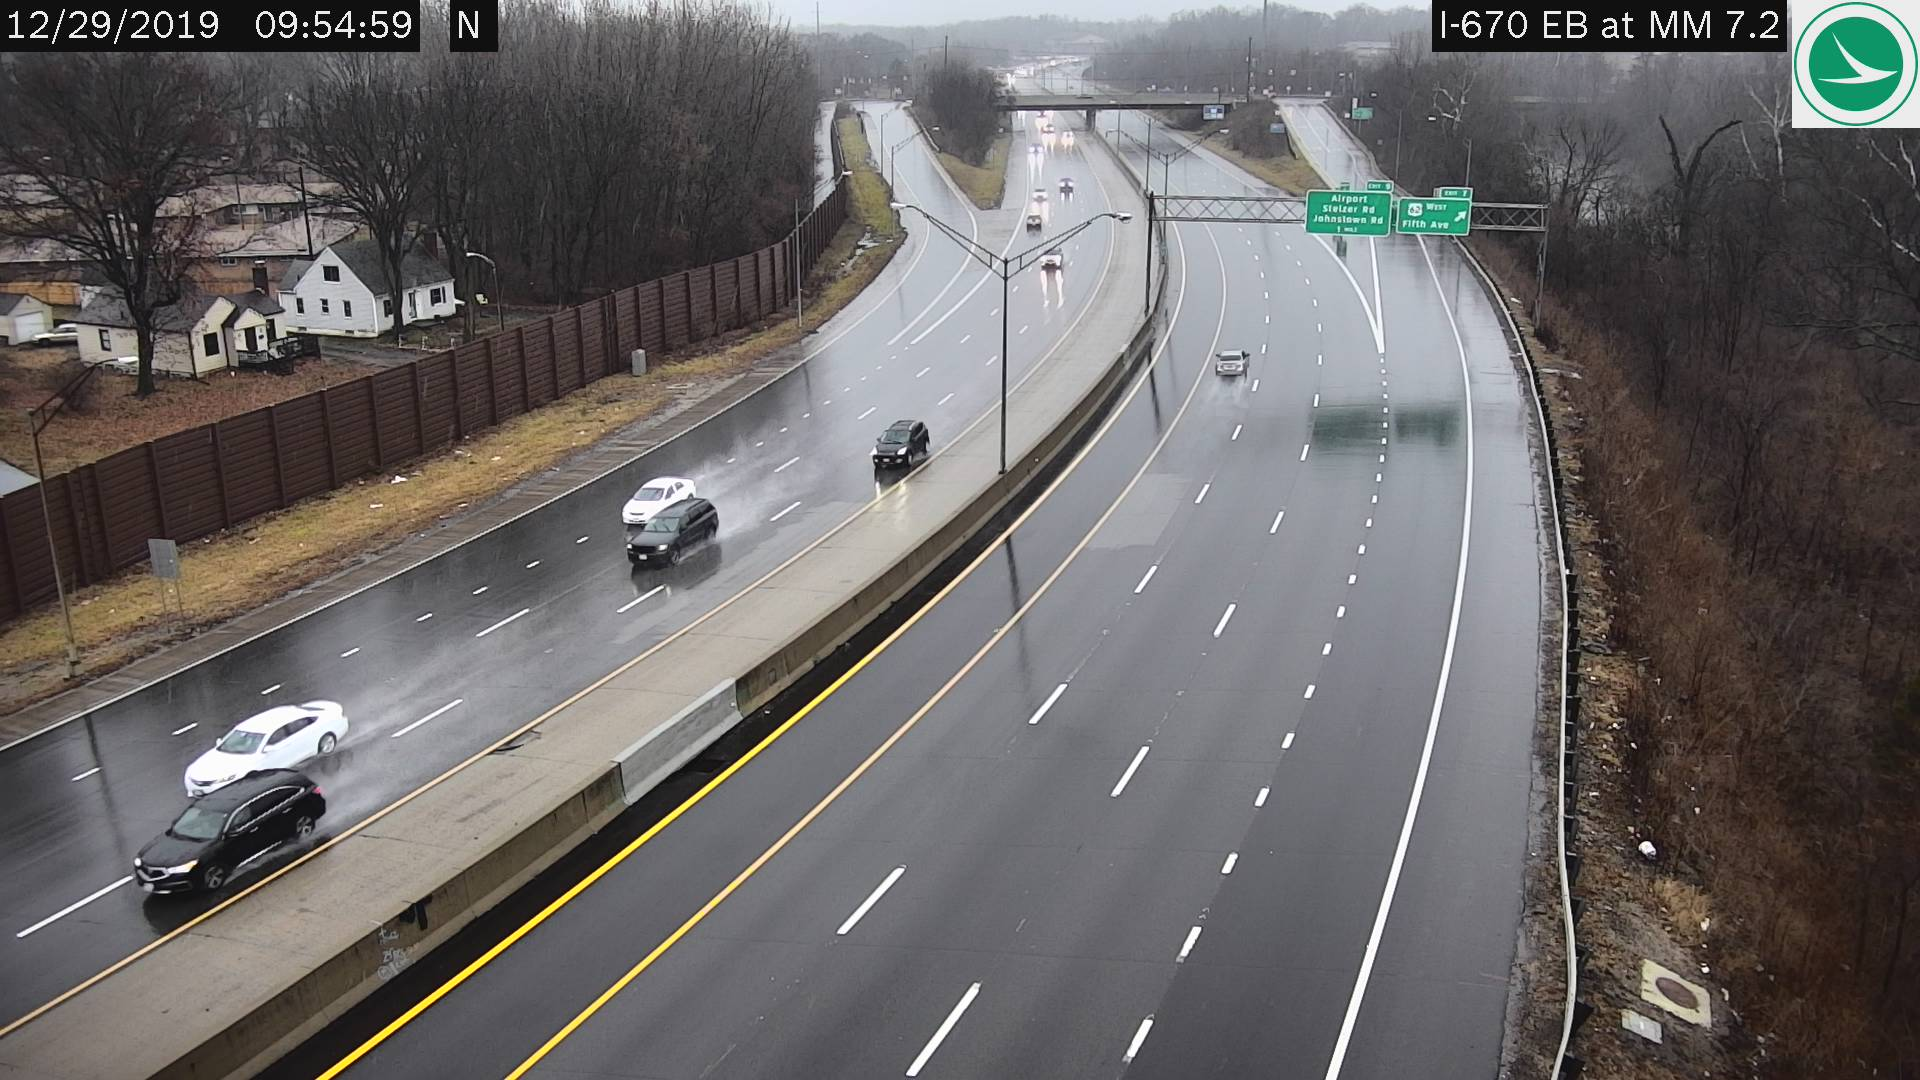car: (135, 767, 330, 895), (186, 700, 349, 785), (630, 496, 723, 564), (866, 415, 926, 468), (622, 476, 694, 520), (1218, 348, 1250, 376), (1038, 248, 1062, 268), (1025, 214, 1040, 232), (1059, 175, 1073, 194)
